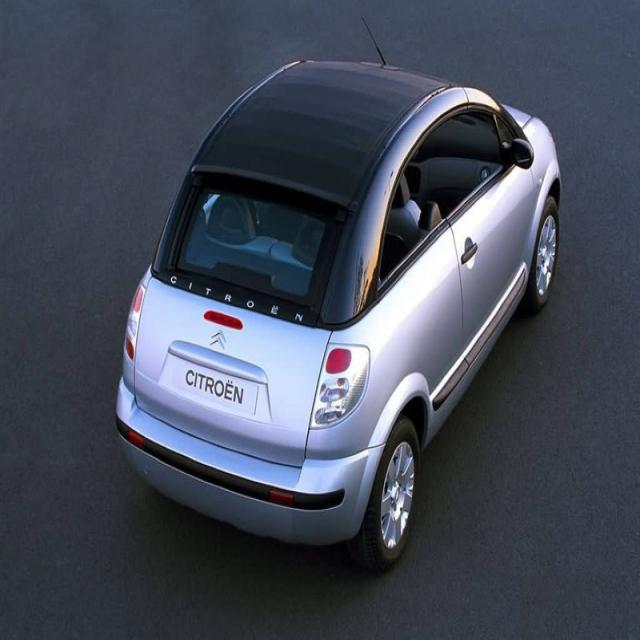back_glass: (170, 180, 341, 312)
back_left_side_light: (122, 276, 148, 370)
back_right_side_light: (306, 338, 372, 434)
front_right_side_door: (445, 139, 532, 381)
front_right_side_mirror: (505, 136, 534, 170)
rear_bumper: (112, 376, 368, 550)
wheel: (363, 415, 422, 567), (520, 196, 562, 318)
